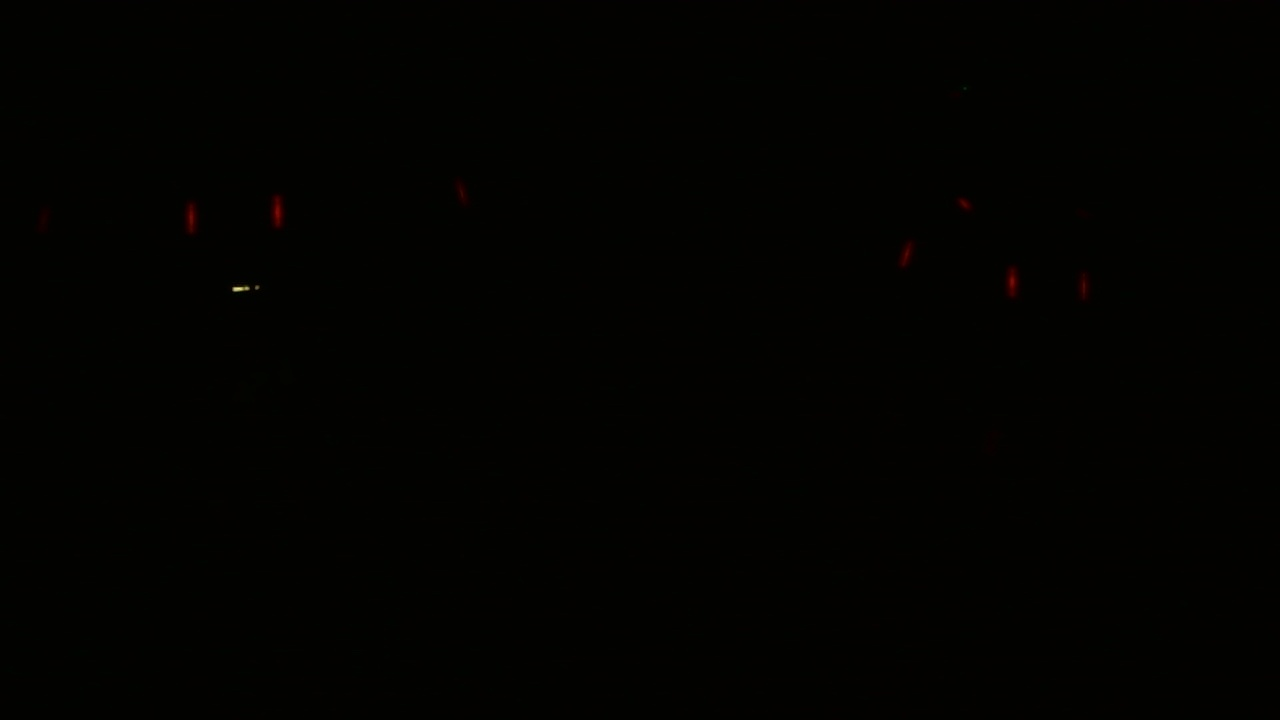pair1: (168, 197, 291, 235), (1003, 264, 1091, 305)
